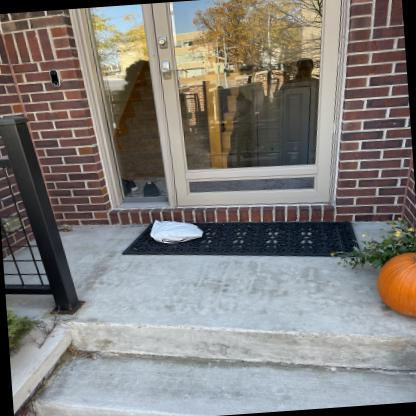plastic_bag: (150, 220, 203, 244)
